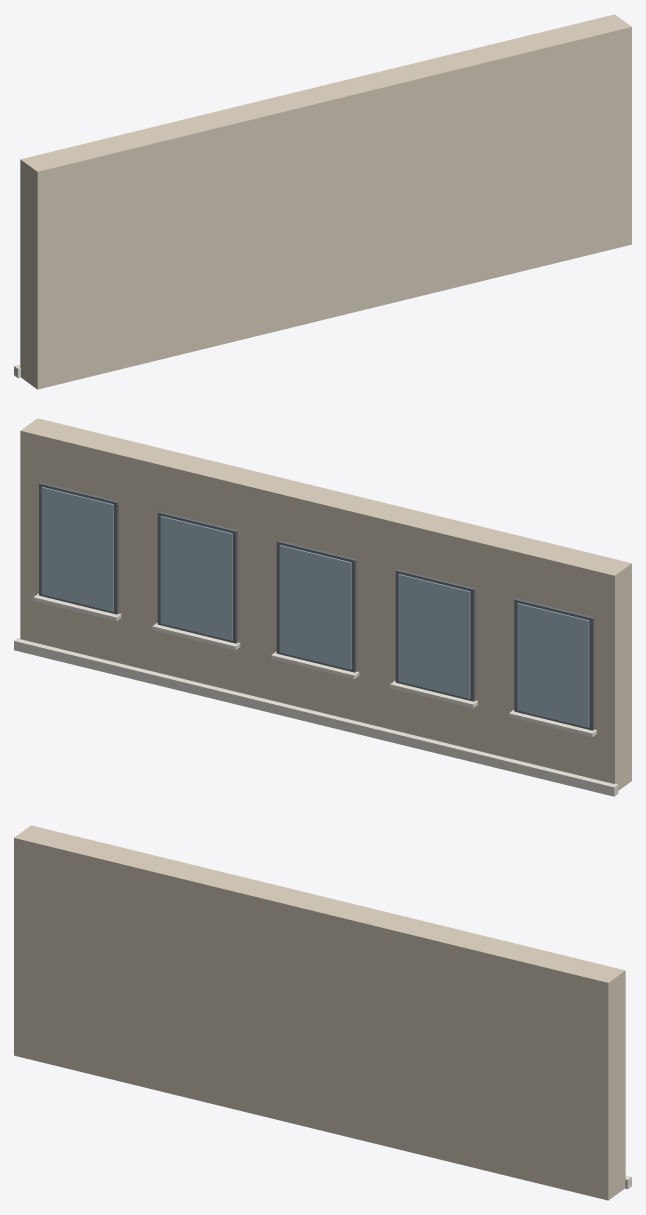
File: facade_mid.glb
3 renders of one model, top to bottom at view 1: azimuth 30°, elevation 25°; view 2: azimuth 150°, elevation 25°; view 3: azimuth 330°, elevation 25°, orthographic.
Parts seen in each view (by area): view 1: body; view 2: body; view 3: body.
Boxes of the visible parts, x1,y1,x2,y2 form: body: (14,14,631,389); body: (14,418,631,796); body: (14,825,631,1200).
Bounding box in the file's own units: 10.1 × 3.5 × 0.64.
